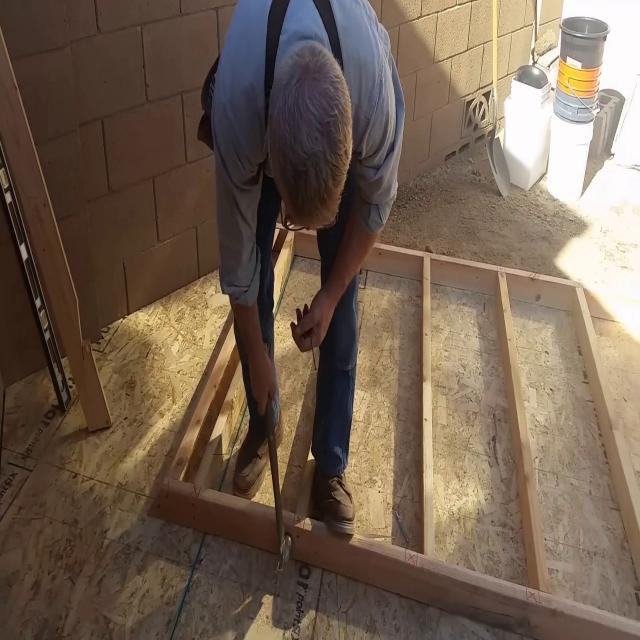hammer: (265, 392, 292, 574)
